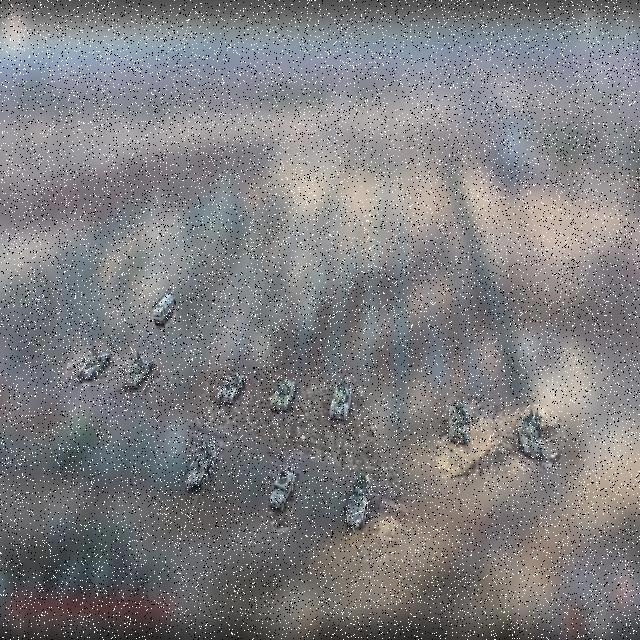MIL_MBT: (185, 441, 217, 491), (515, 413, 548, 461), (67, 348, 113, 381), (344, 473, 371, 528), (112, 357, 155, 390), (211, 371, 246, 406), (326, 382, 354, 423), (266, 379, 297, 412), (448, 402, 472, 444)
